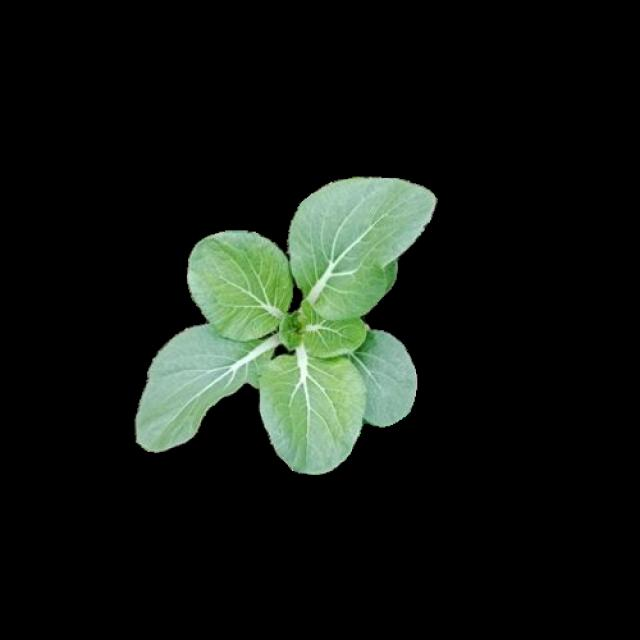healthy: (134, 174, 434, 476)
not-mature: (136, 174, 435, 476)
